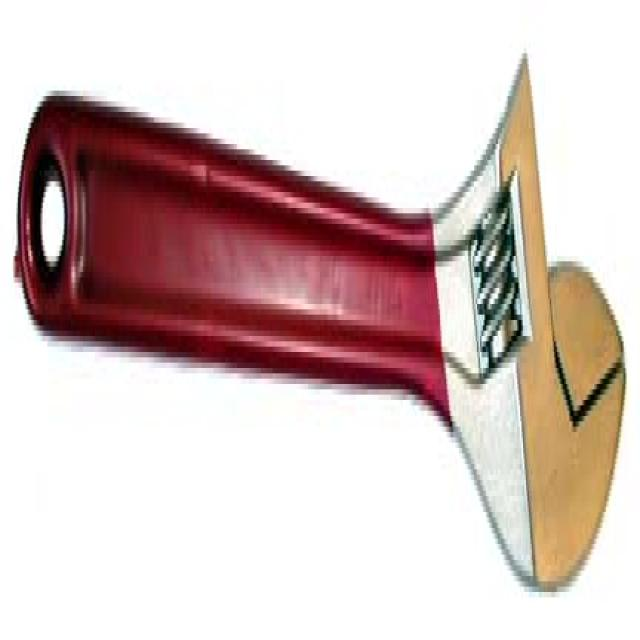wrench: (13, 14, 640, 640)
